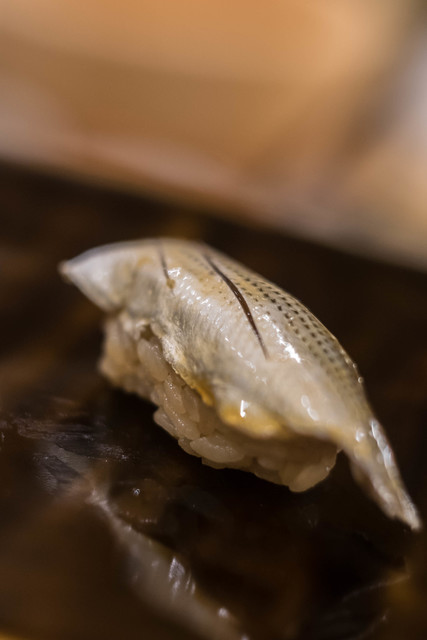spotted-shad: (58, 230, 420, 534)
